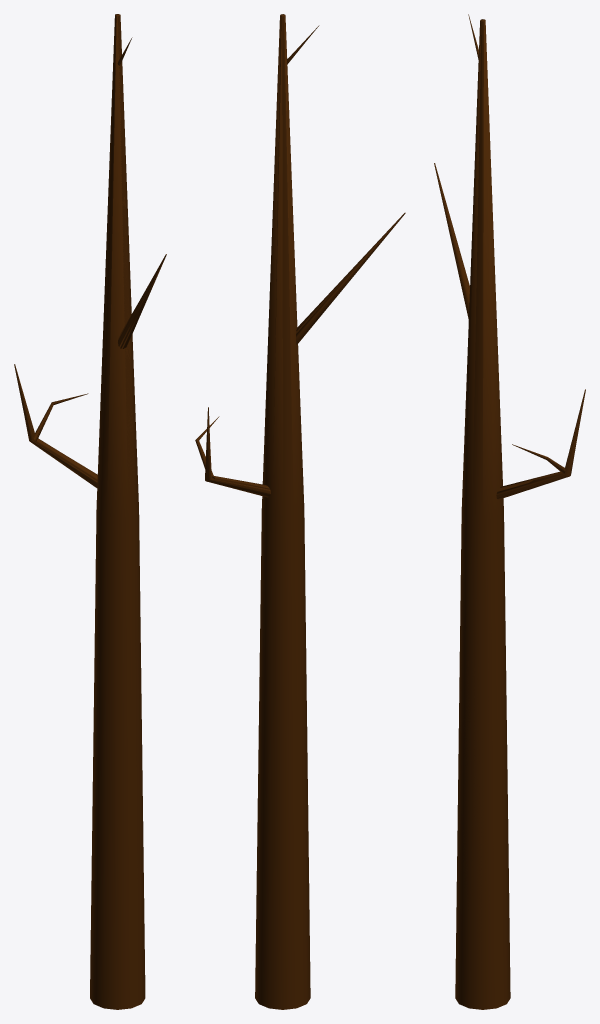
Rendered from Tree.fbx.
3 renders of one model, left to right at view 1: azimuth 90°, elevation 25°; view 2: azimuth 150°, elevation 25°; view 3: azimuth 270°, elevation 25°, orthographic.
Parts seen in each view (by area): view 1: Tree1, Tree2, Tree3; view 2: Tree1, Tree2, Tree3; view 3: Tree1, Tree2, Tree3.
Part boxes in pixels (left/top/right/bottom): Tree1: left=14, top=14, right=166, bottom=1009; Tree2: left=14, top=14, right=166, bottom=1009; Tree3: left=23, top=14, right=145, bottom=517; Tree1: left=195, top=15, right=405, bottom=1009; Tree2: left=196, top=14, right=404, bottom=1009; Tree3: left=195, top=14, right=358, bottom=515; Tree1: left=434, top=14, right=585, bottom=1009; Tree2: left=434, top=19, right=585, bottom=1009; Tree3: left=457, top=19, right=575, bottom=518.
Size of the model in its own units: 348 by 2137 by 301.
